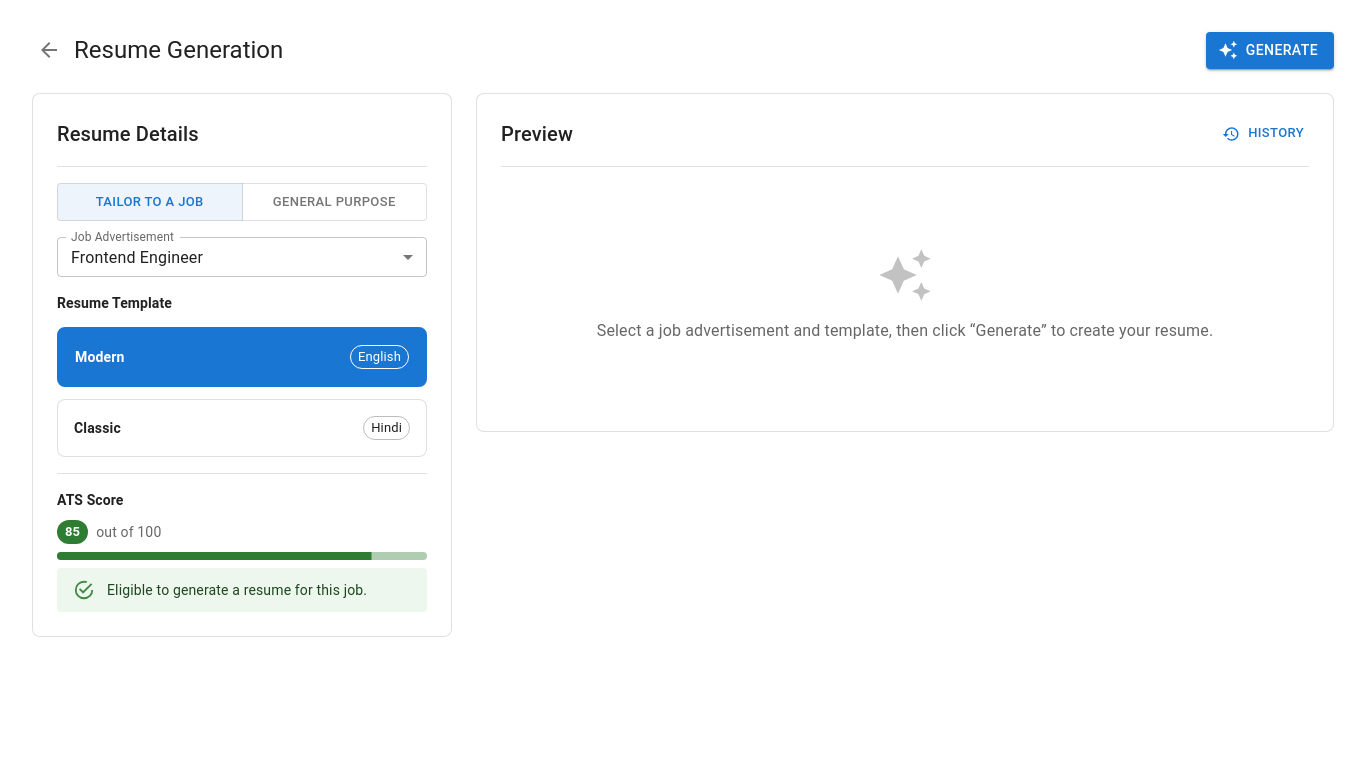
it: ResumesPage › shows a loading state while the preview is being fetched
Expected: the text "Eligible to generate a resume for this job." is shown, [107,582,367,598]
Click the button "Generate": {"x": 1270, "y": 50} [1206,32,1334,68]
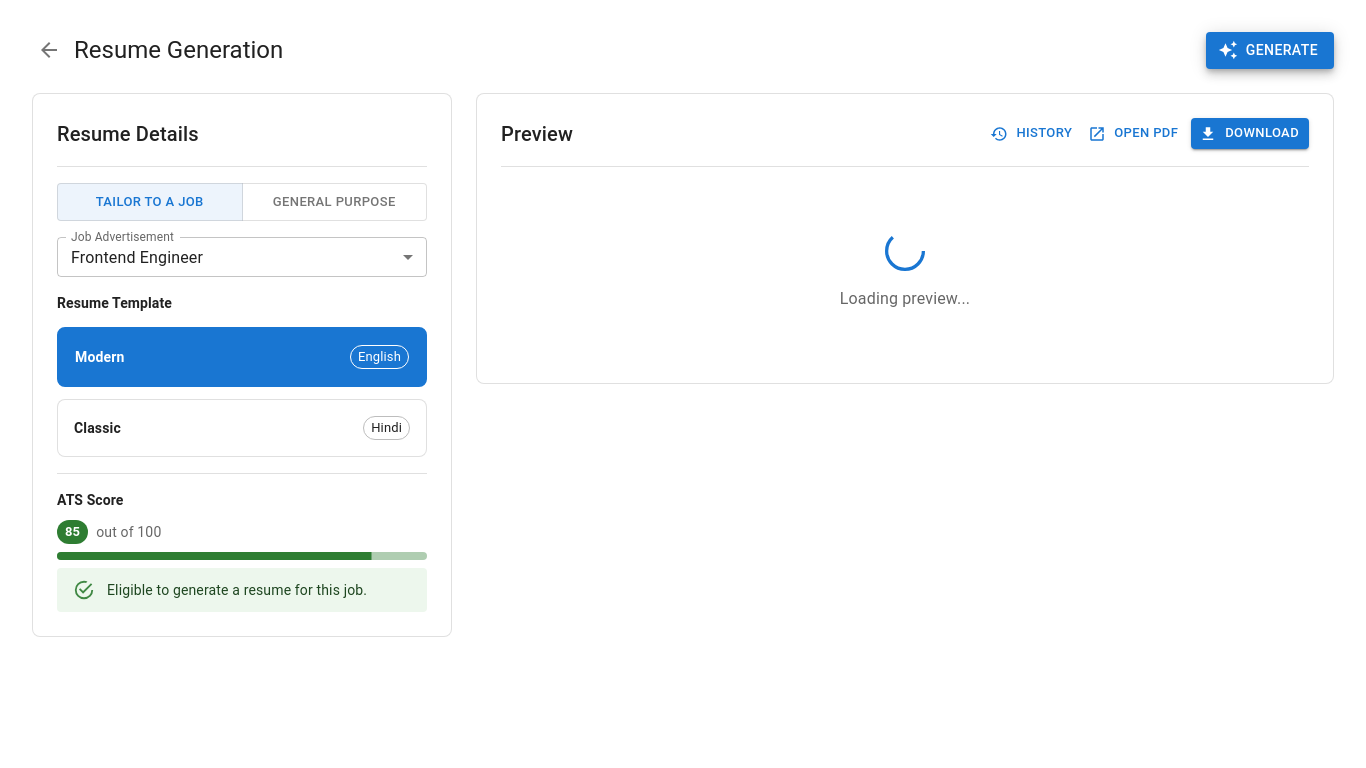
Expected: the text "Loading preview..." is shown, [840,286,970,310]
